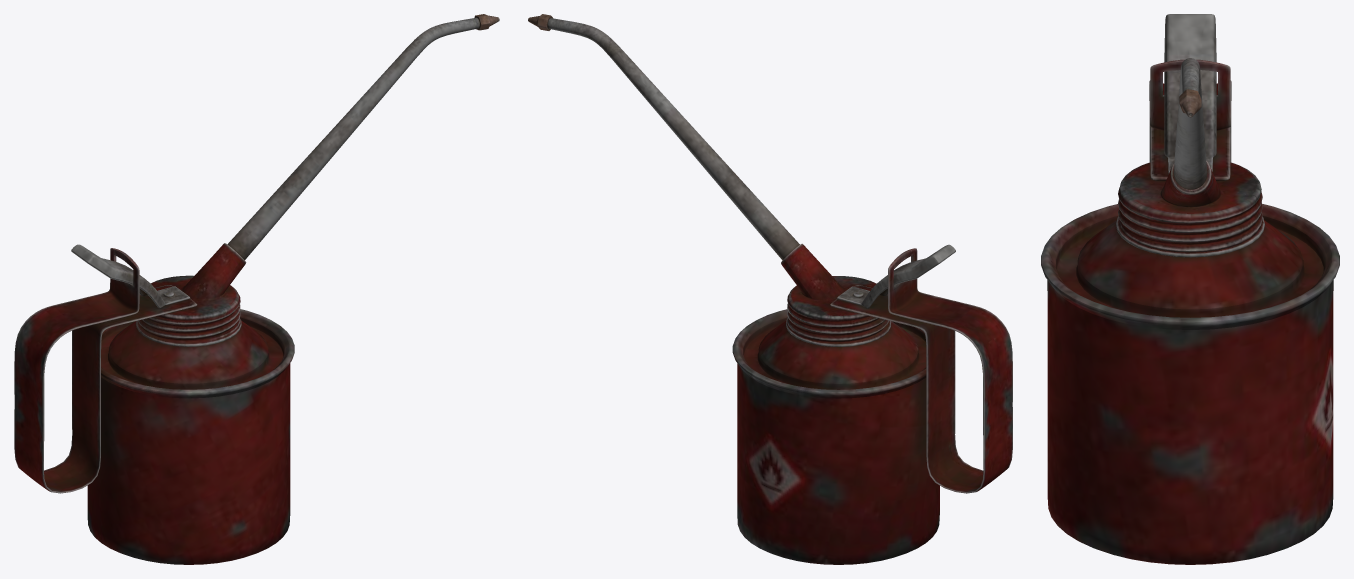
File: oil_can.glb
The picture shows the model from 3 angles, left to right: view 1: azimuth 30°, elevation 25°; view 2: azimuth 150°, elevation 25°; view 3: azimuth 270°, elevation 25°; orthographic projection. The views are drawn at different scales.
Parts seen in each view (by area): view 1: small_oil_can_01; view 2: small_oil_can_01; view 3: small_oil_can_01.
Boxes of the visible parts, bbox=[...] form: small_oil_can_01: bbox=[14, 14, 499, 564]; small_oil_can_01: bbox=[528, 14, 1012, 564]; small_oil_can_01: bbox=[1041, 14, 1339, 564].
Bounding box in the file's own units: 0.2661 × 0.2368 × 0.1038.
Materials: 1 (1 with a texture image).
